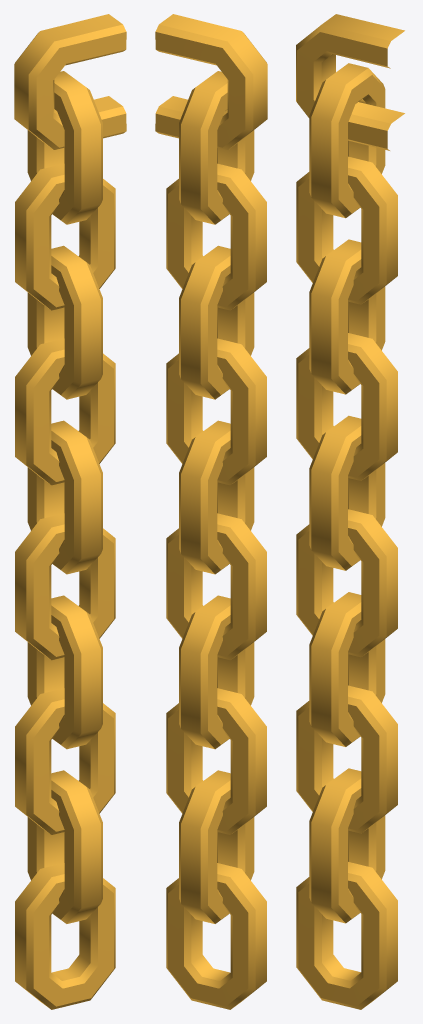
The model's file is Chain_1_2.glb.
The picture shows the model from 3 angles, left to right: view 1: azimuth 30°, elevation 25°; view 2: azimuth 150°, elevation 25°; view 3: azimuth 330°, elevation 25°; orthographic projection.
Parts seen in each view (by area): view 1: Chain_1_2; view 2: Chain_1_2; view 3: Chain_1_2.
Boxes of the visible parts, x1,y1,x2,y2 form: Chain_1_2: (14,14,126,1009); Chain_1_2: (155,14,267,1009); Chain_1_2: (296,14,404,1009).
Size of the model in its own units: 0.1149 by 1.12 by 0.1077.
Materials: 1 (1 with a texture image).
